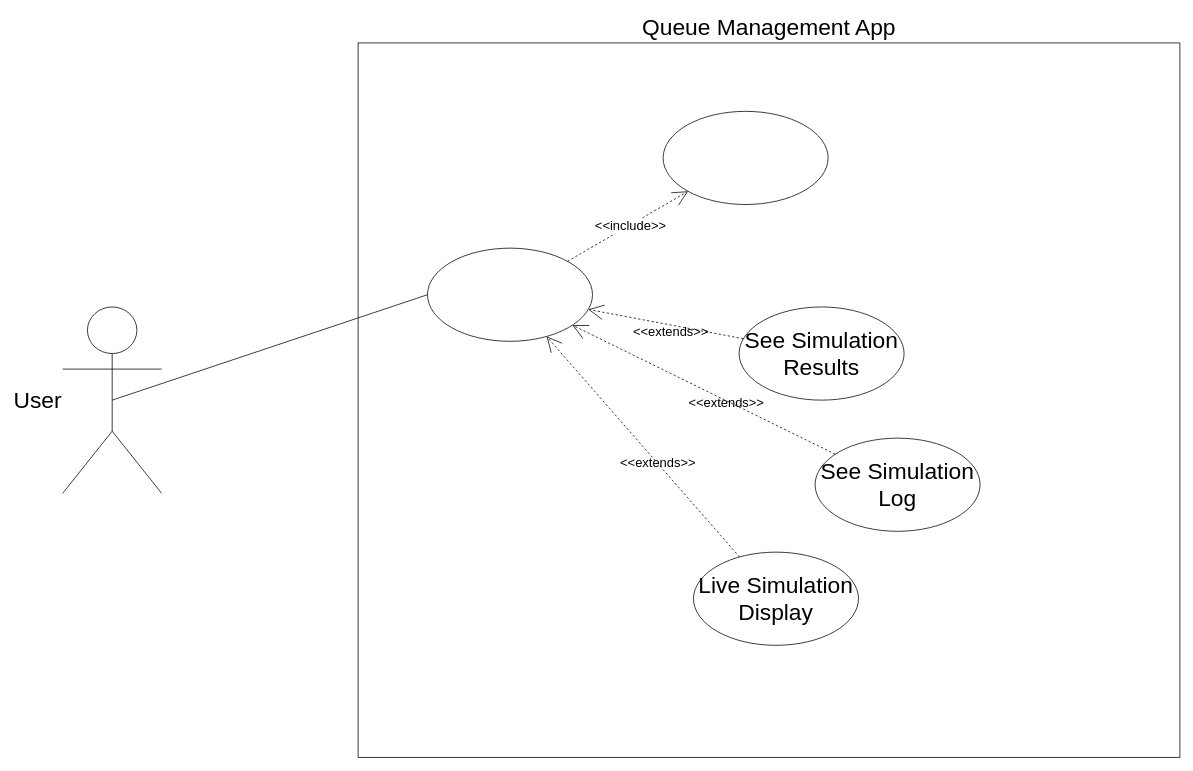
The diagram is 1193 pixels wide and 771 high, and some of its shapes have lost their labels. The box of each missing label's shape, as (x1, y1, x2, y2) in pixels:
Run Simulation: (427, 247, 592, 341)
Setup Simulation: (662, 111, 828, 205)
